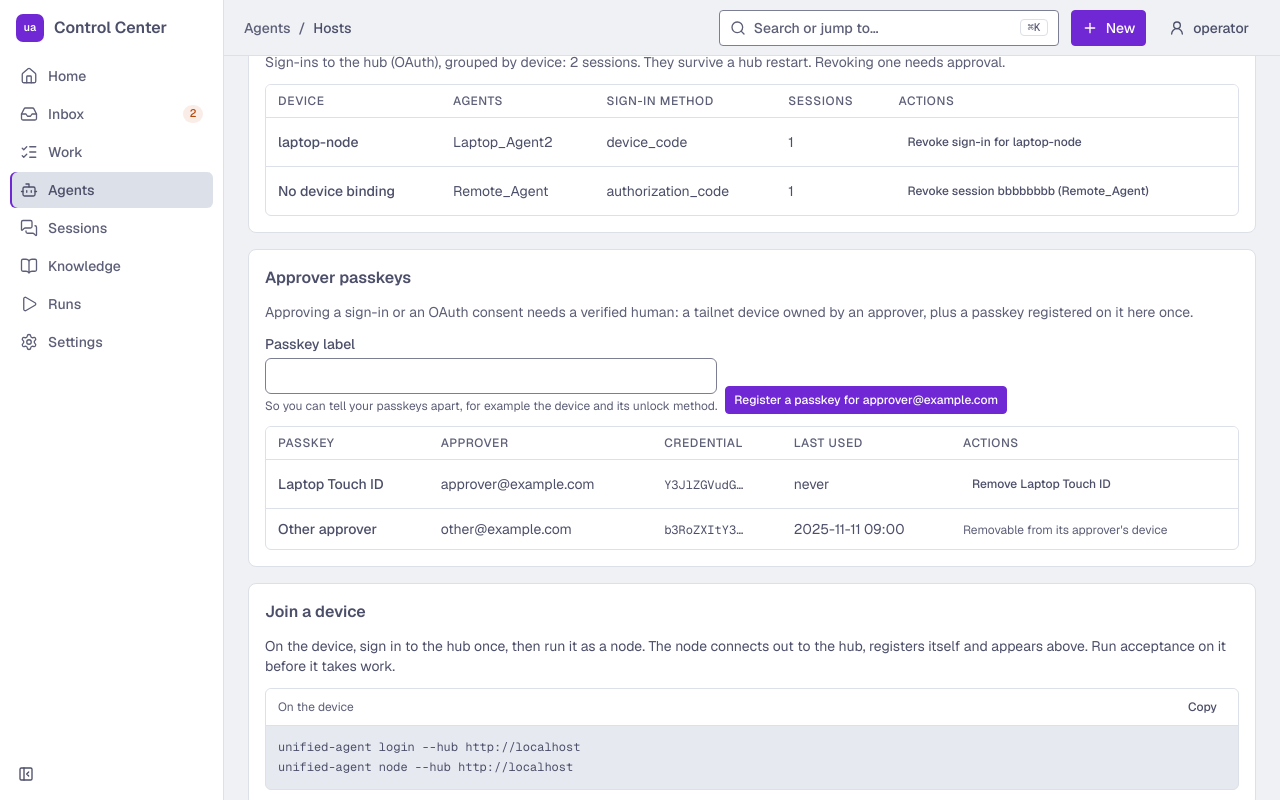
Test case: hosts: approver passkeys › says when the person dismisses the passkey prompt, and sends nothing to register
(page scrolled)
Step 1. Click the button "Register a passkey for approver@example.com" → (866, 400), box [725,386,1007,414]
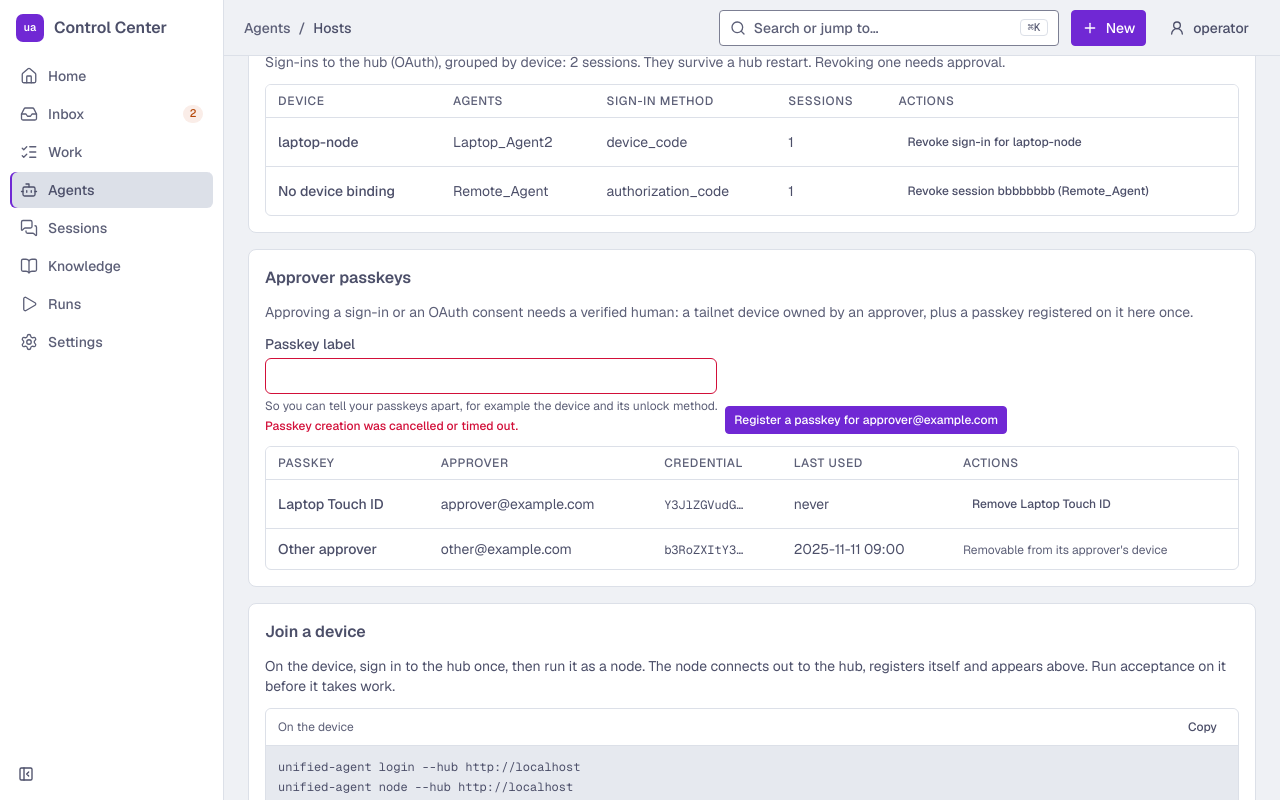
Now the text "Passkey creation was cancelled or timed out." is shown, box [265,418,518,434]
